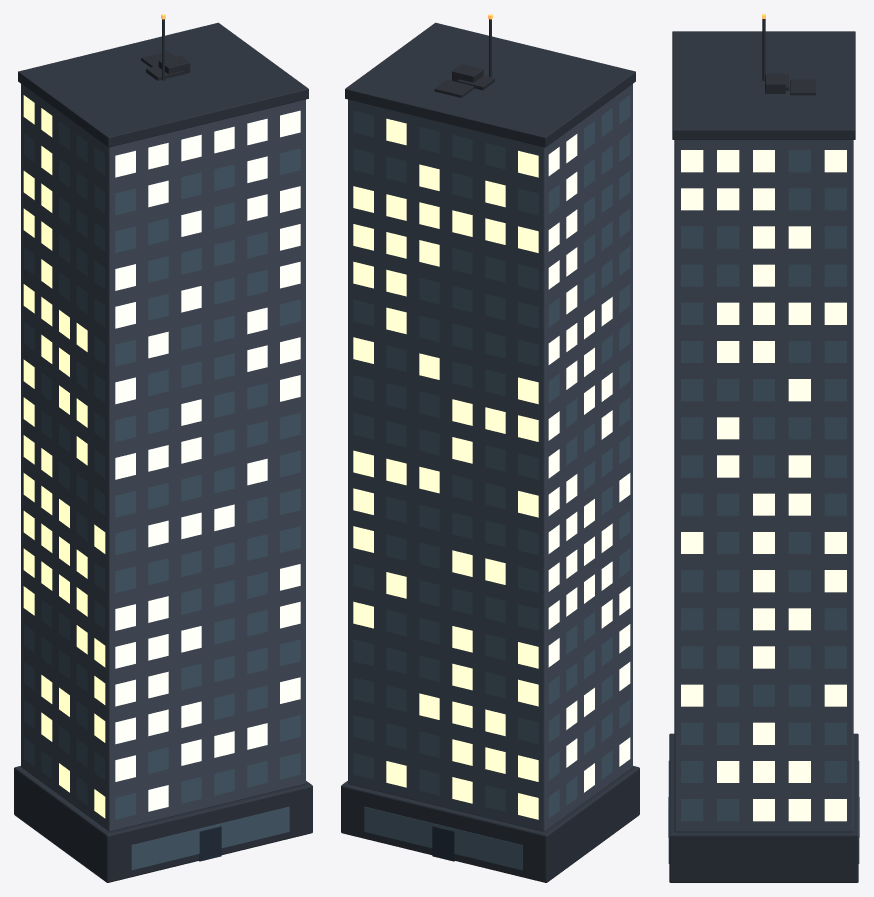
The model's file is bld_tower_c.glb.
3 renders of one model, left to right at view 1: azimuth 30°, elevation 25°; view 2: azimuth 150°, elevation 25°; view 3: azimuth 270°, elevation 25°, orthographic.
Visible parts, largest first — view 1: Shaft, Windows, WindowsLit, Parapet, Podium, Storefront, Door; view 2: Shaft, Windows, WindowsLit, Parapet, Podium, Storefront, Door; view 3: Shaft, Windows, WindowsLit, Parapet, Podium, AC_1, AC_2, Storefront.
Part boxes in pixels (x1,y1,x2,y2): Shaft: (21,84,305,831); Windows: (23,121,300,819); WindowsLit: (23,95,300,818); Parapet: (18,22,308,147); Podium: (14,766,312,882); Storefront: (131,806,289,870); Door: (199,826,221,861); Shaft: (348,84,632,831); Windows: (353,95,630,818); WindowsLit: (353,118,630,819); Parapet: (345,22,635,147); Podium: (341,766,639,882); Storefront: (364,806,522,870); Door: (432,826,454,861); Shaft: (674,140,853,832); Windows: (681,150,846,821); WindowsLit: (681,150,846,821); Parapet: (672,31,855,139); Podium: (669,733,858,882); AC_1: (790,79,815,95); AC_2: (765,73,785,93); Storefront: (668,761,859,863).
Size of the model in its own units: 18.8 by 70.45 by 14.92.
